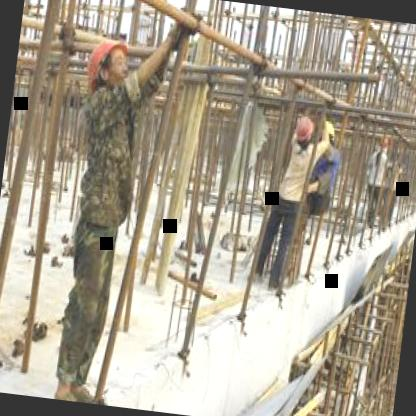helmet: (90, 33, 134, 84), (290, 112, 318, 150), (318, 118, 338, 150)
